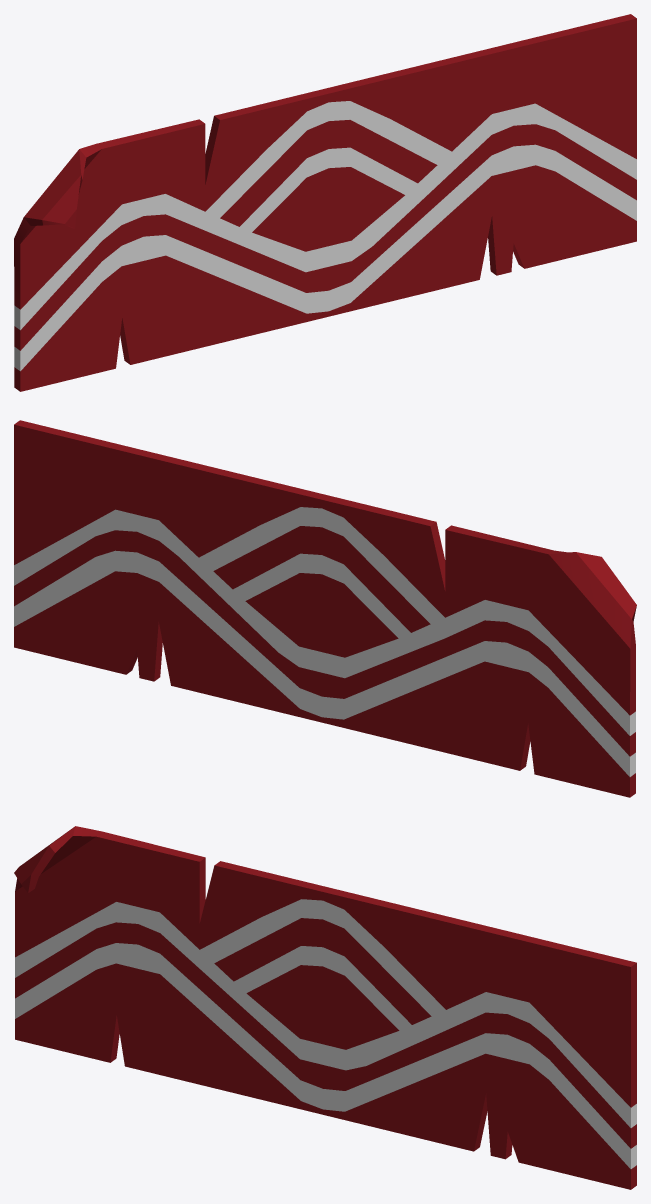
File: cc0-painting-lod1.glb
3 views of the same model, one above another, from view 1: azimuth 30°, elevation 25°; view 2: azimuth 150°, elevation 25°; view 3: azimuth 330°, elevation 25° (orthographic).
Visible parts, largest first — view 1: part_0; view 2: part_0; view 3: part_0.
Part boxes in pixels (left/top/right/bottom): part_0: left=14, top=14, right=636, bottom=391; part_0: left=14, top=420, right=636, bottom=797; part_0: left=14, top=826, right=636, bottom=1189.
Bounding box in the file's own units: 4 × 1.41 × 0.3001.
1 material, 1 textured.
